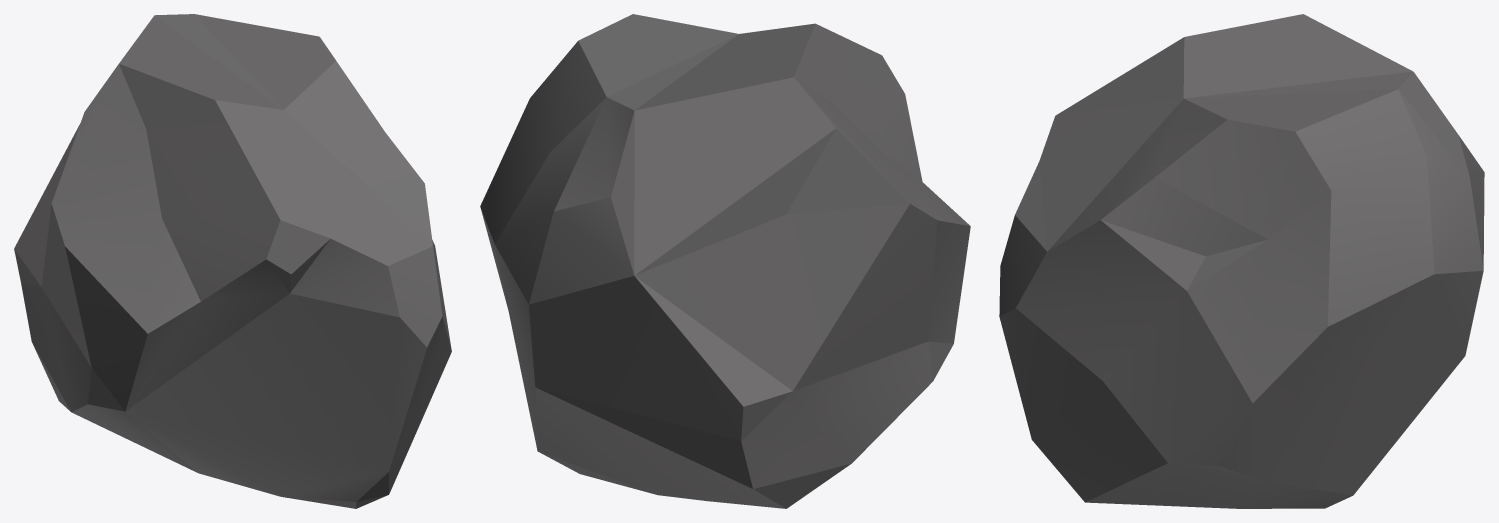
Rendered from RockB.fbx.
The picture shows the model from 3 angles, left to right: view 1: azimuth 30°, elevation 25°; view 2: azimuth 150°, elevation 25°; view 3: azimuth 270°, elevation 25°; orthographic projection. The views are drawn at different scales.
Parts seen in each view (by area): view 1: RockB; view 2: RockB; view 3: RockB.
Part boxes in pixels (left/top/right/bottom): RockB: left=14, top=14, right=451, bottom=508; RockB: left=480, top=14, right=970, bottom=508; RockB: left=999, top=14, right=1484, bottom=508.
Bounding box in the file's own units: 471 × 468 × 502.
